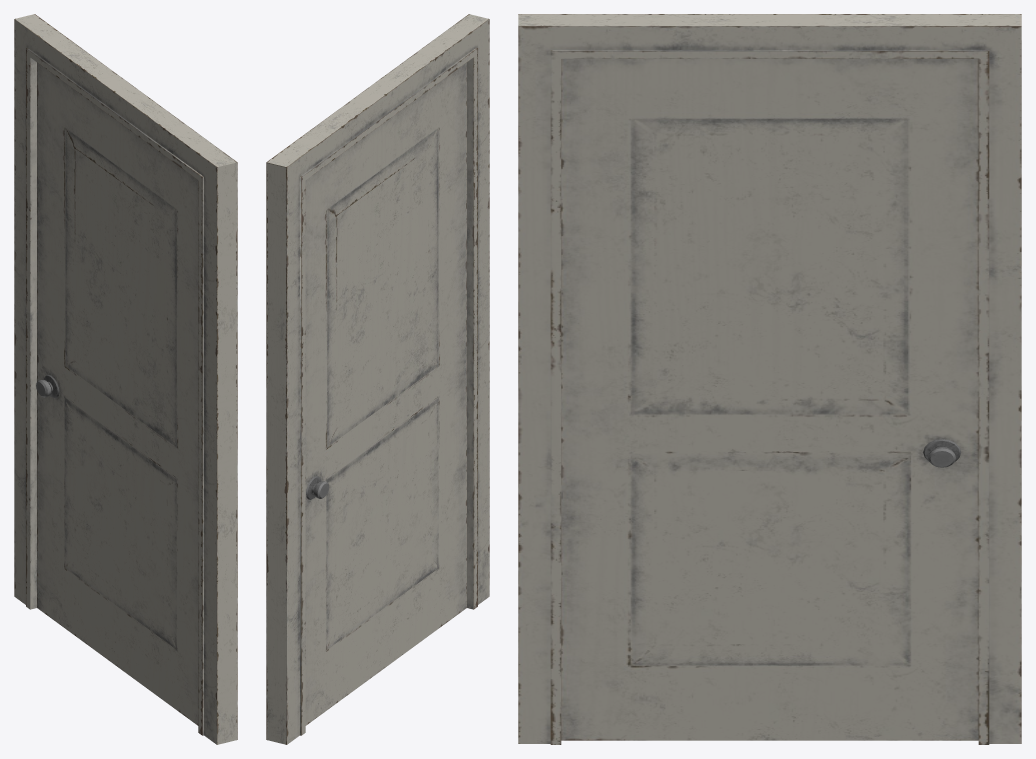
The picture shows the model from 3 angles, left to right: view 1: azimuth 30°, elevation 25°; view 2: azimuth 150°, elevation 25°; view 3: azimuth 270°, elevation 25°; orthographic projection. The views are drawn at different scales.
Parts seen in each view (by area): view 1: Door_low.002; view 2: Door_low.002; view 3: Door_low.002.
Part boxes in pixels (x1,y1,x2,y2): Door_low.002: [14, 14, 237, 744]; Door_low.002: [266, 14, 489, 744]; Door_low.002: [518, 14, 1021, 744].
Bounding box in the file's own units: 2.15 × 37.19 × 23.64.
Materials: 1 (1 with a texture image).
